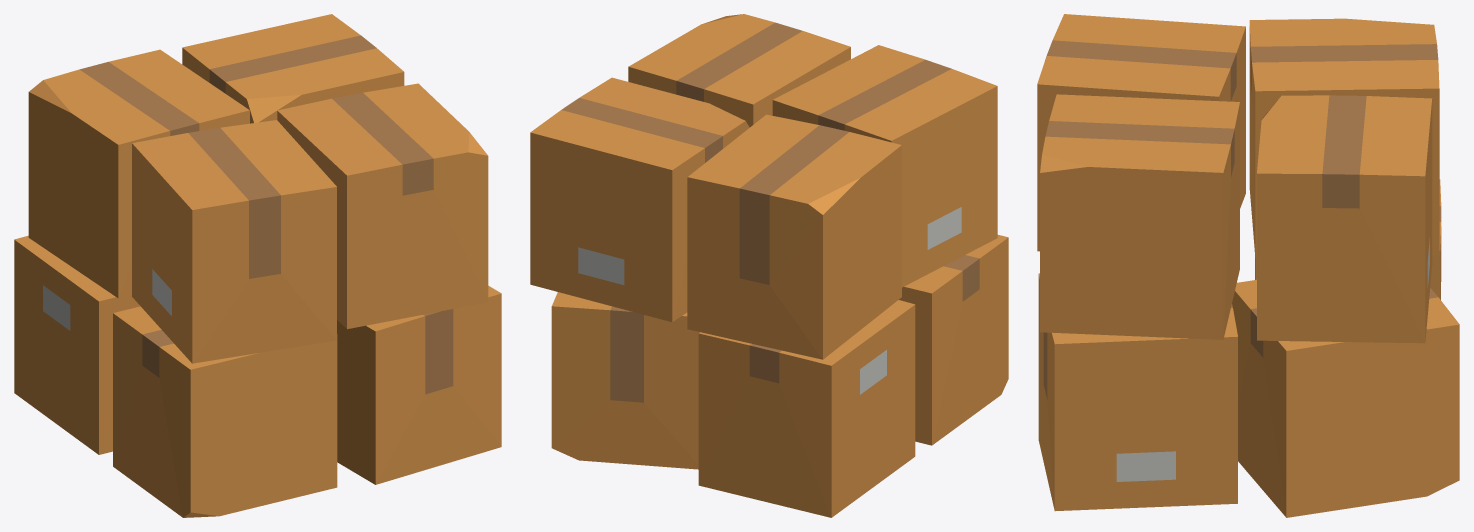
Rendered from CardboardBox_Stack_01.FBX.
3 renders of one model, left to right at view 1: azimuth 30°, elevation 25°; view 2: azimuth 150°, elevation 25°; view 3: azimuth 270°, elevation 25°, orthographic. The views are drawn at different scales.
Parts seen in each view (by area): view 1: CardboardBox_Stack_01; view 2: CardboardBox_Stack_01; view 3: CardboardBox_Stack_01.
Part boxes in pixels (box(x1,y1,x2,y2)): CardboardBox_Stack_01: box(14, 14, 501, 517); CardboardBox_Stack_01: box(530, 14, 1008, 517); CardboardBox_Stack_01: box(1037, 14, 1459, 517).
Bounding box in the file's own units: 101 × 91.67 × 104.
